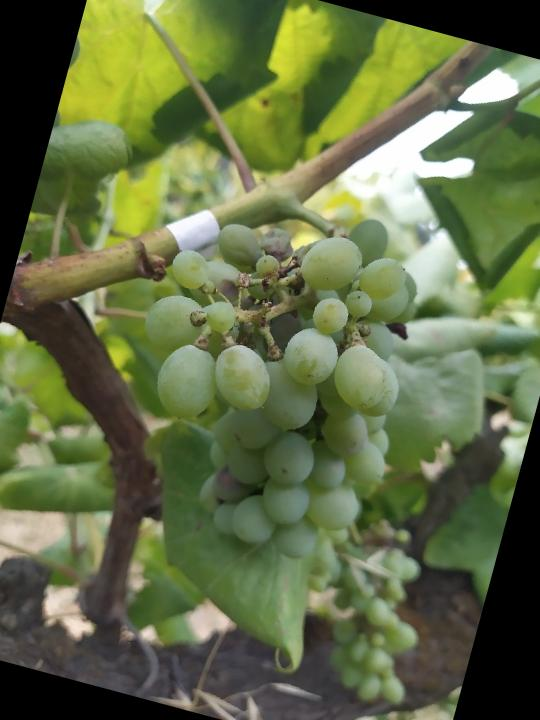grape: (92, 159, 470, 583)
